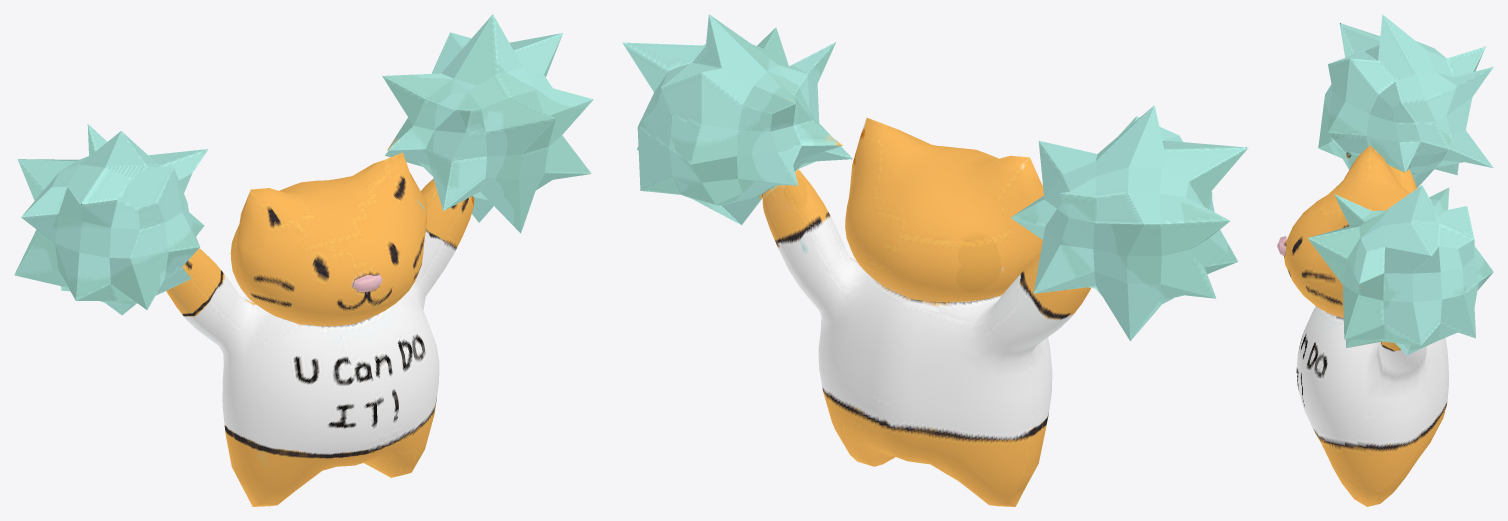
File: mugcat.glb
3 renders of one model, left to right at view 1: azimuth 30°, elevation 25°; view 2: azimuth 150°, elevation 25°; view 3: azimuth 270°, elevation 25°, orthographic. The views are drawn at different scales.
Visible parts, largest first — view 1: MugCat; view 2: MugCat; view 3: MugCat.
Part boxes in pixels (x1,y1,x2,y2): MugCat: (14,14,593,506); MugCat: (622,14,1248,506); MugCat: (1277,14,1493,506).
Bounding box in the file's own units: 5.55 × 3.97 × 2.06.
1 material, 1 textured.
